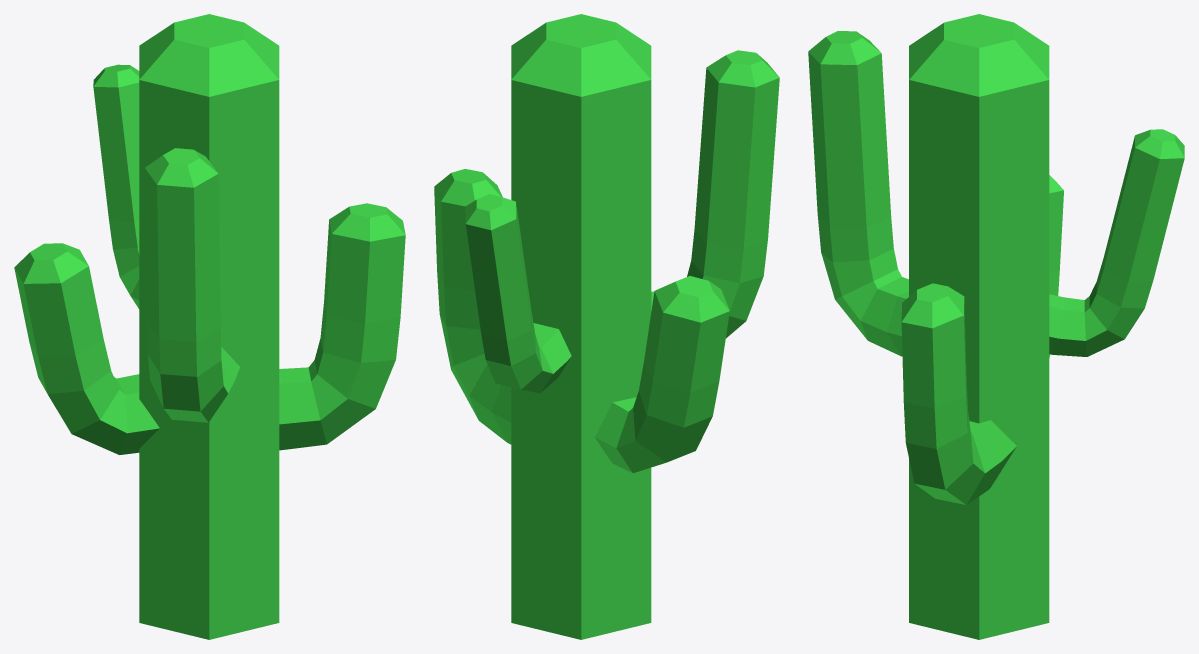
The model's file is Cactus1.fbx.
The picture shows the model from 3 angles, left to right: view 1: azimuth 30°, elevation 25°; view 2: azimuth 150°, elevation 25°; view 3: azimuth 270°, elevation 25°; orthographic projection.
Visible parts, largest first — view 1: xianrenzhang1; view 2: xianrenzhang1; view 3: xianrenzhang1.
Boxes of the visible parts, <box> form: xianrenzhang1: <box>14,14,405,639</box>; xianrenzhang1: <box>434,14,779,639</box>; xianrenzhang1: <box>808,14,1184,639</box>.
Size of the model in its own units: 5.21 by 8.48 by 5.03.
